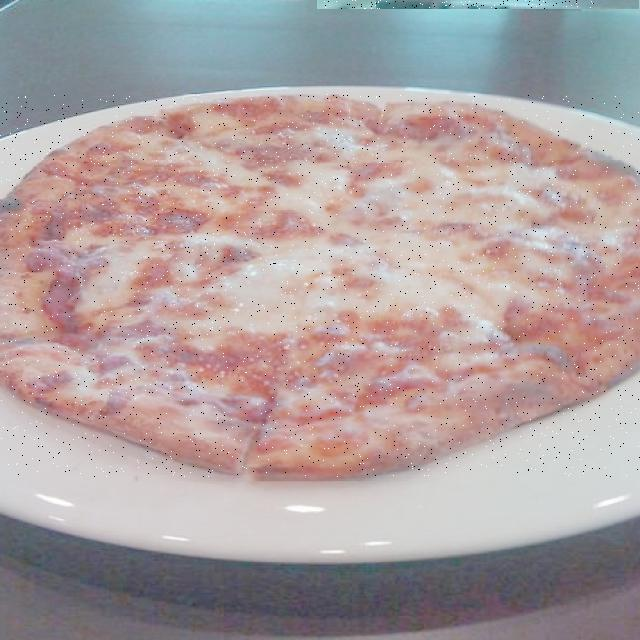Pizza: (0, 95, 640, 477), (317, 0, 609, 9)
